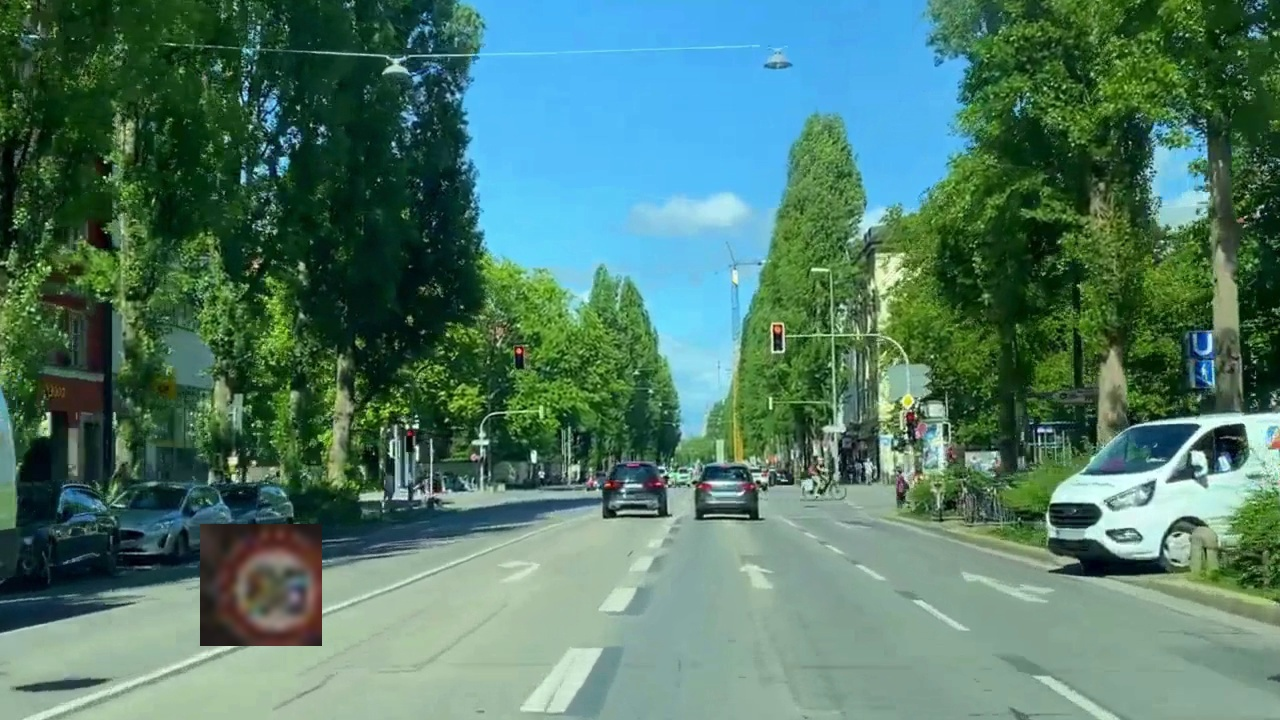Speed 80: (200, 524, 322, 646)
